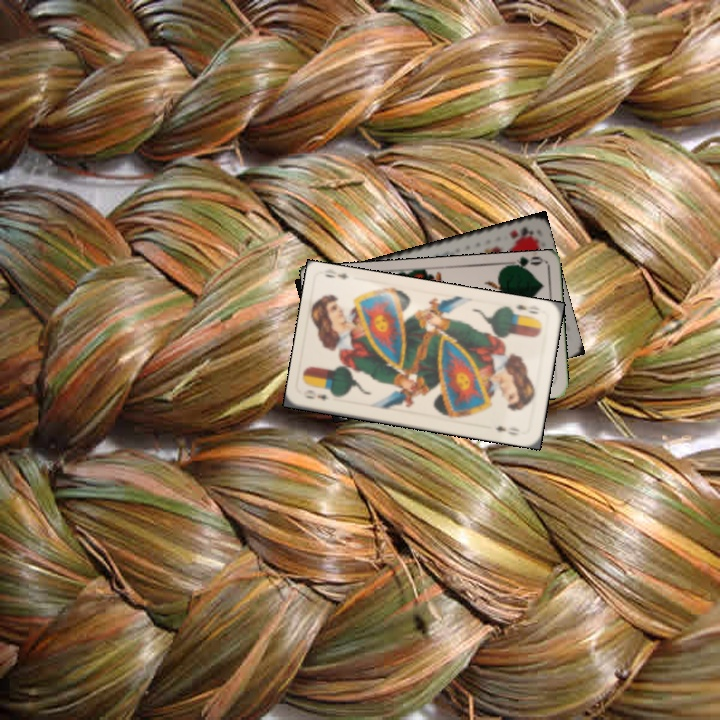EO: (506, 301, 543, 322), (300, 386, 332, 403)
GO: (503, 253, 544, 274)
HK: (506, 223, 535, 241)
